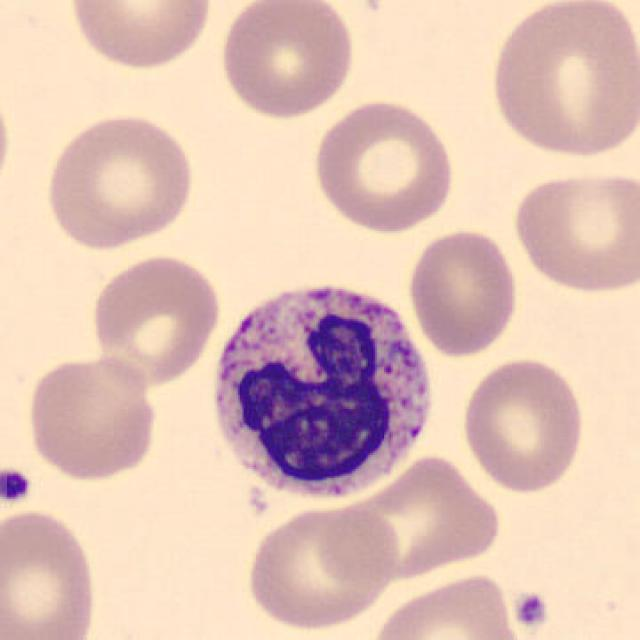Neutrophil: (202, 270, 444, 510)
Platelets: (510, 589, 551, 633), (0, 465, 34, 508)
RBC: (486, 0, 638, 162), (327, 452, 505, 584), (41, 109, 197, 252), (240, 500, 400, 634), (309, 95, 459, 236), (87, 250, 224, 388), (457, 354, 588, 496), (23, 351, 162, 483), (215, 0, 359, 122), (508, 166, 638, 296), (403, 226, 522, 358), (0, 504, 101, 640), (64, 0, 217, 72), (368, 569, 523, 640), (309, 501, 402, 589), (0, 76, 14, 206)
